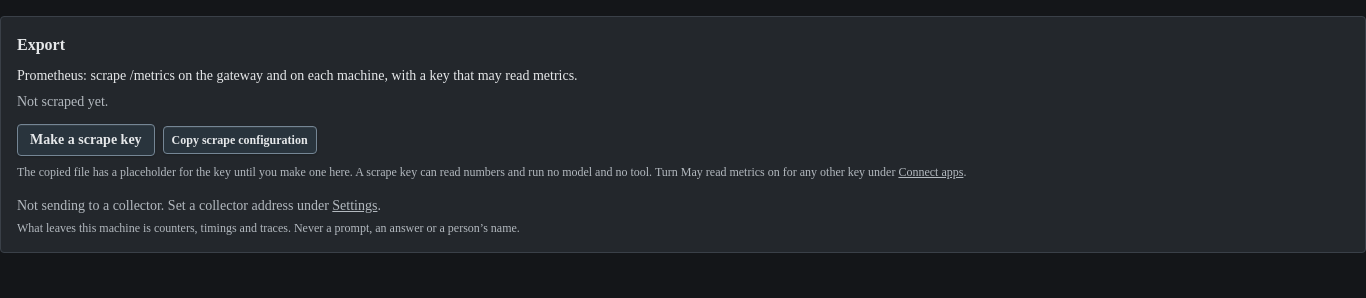
the Export panel › says why a key could not be made
This screenshot has width=1366, height=298.
Expected: the text "Not scraped yet." is shown, top-left (17, 94), bottom-right (108, 109)
Step 1. Click the button "Make a scrape key" → (86, 140), box top-left (17, 124), bottom-right (155, 156)
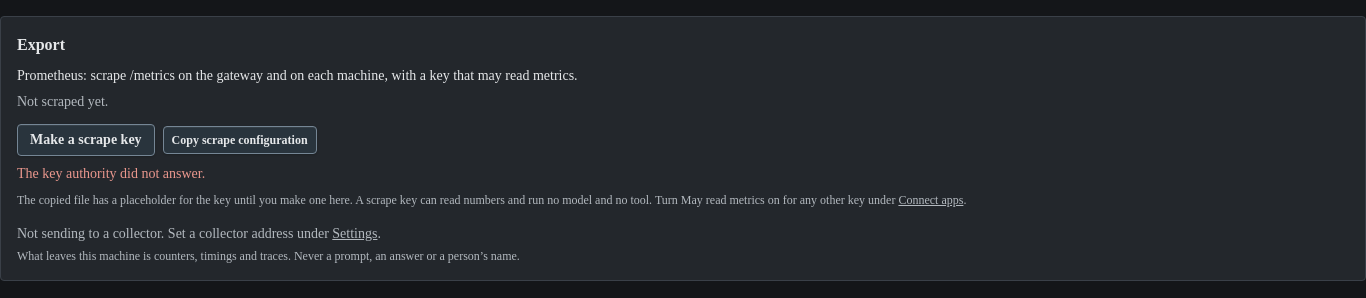
Result: the text "The key authority did not answer." is shown at top-left (17, 166), bottom-right (205, 181)
